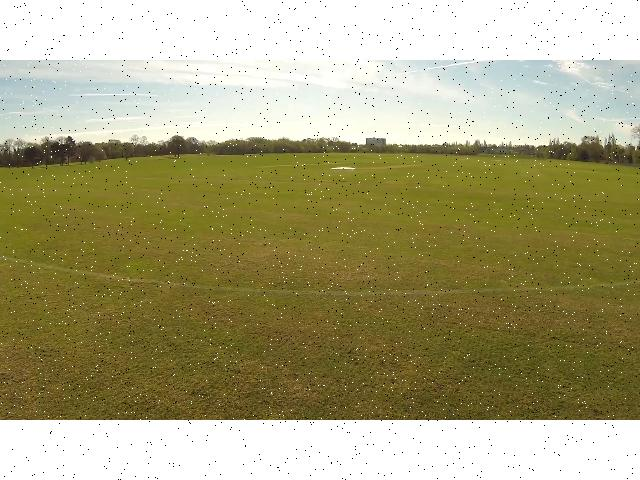Anti-Drone: (319, 156, 371, 176)
